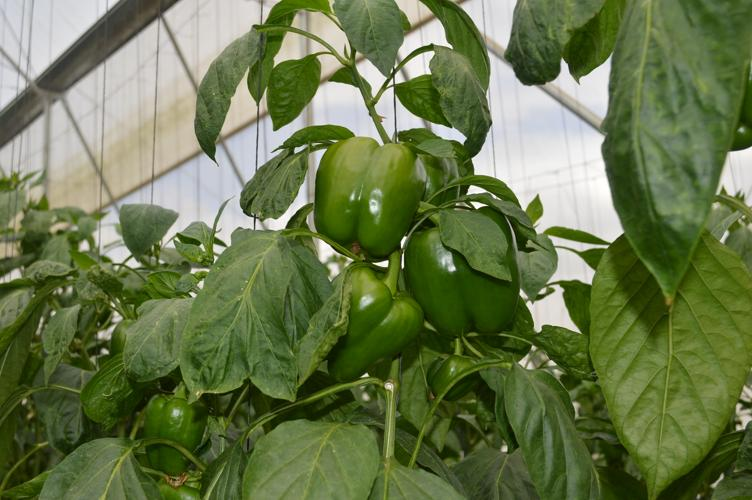BellPepper: (407, 213, 520, 338), (313, 135, 416, 257), (316, 265, 415, 383), (135, 398, 210, 476), (426, 354, 479, 398), (105, 320, 145, 363)
